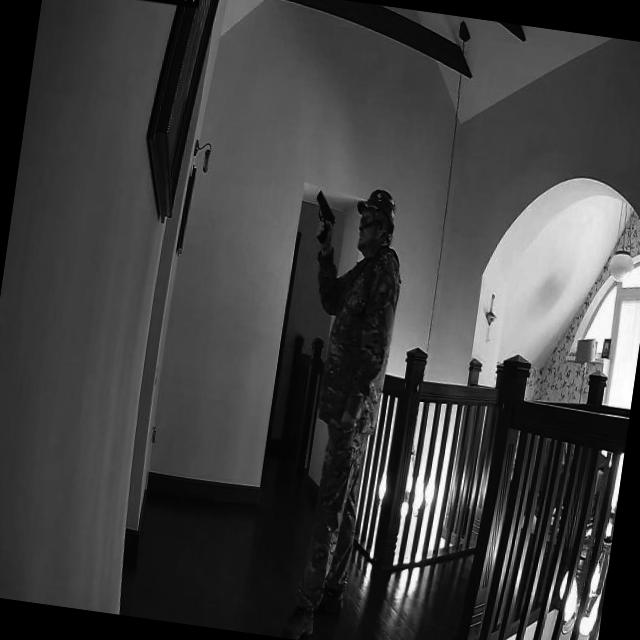gun: (309, 189, 340, 243)
person with a gun: (252, 178, 415, 640)
